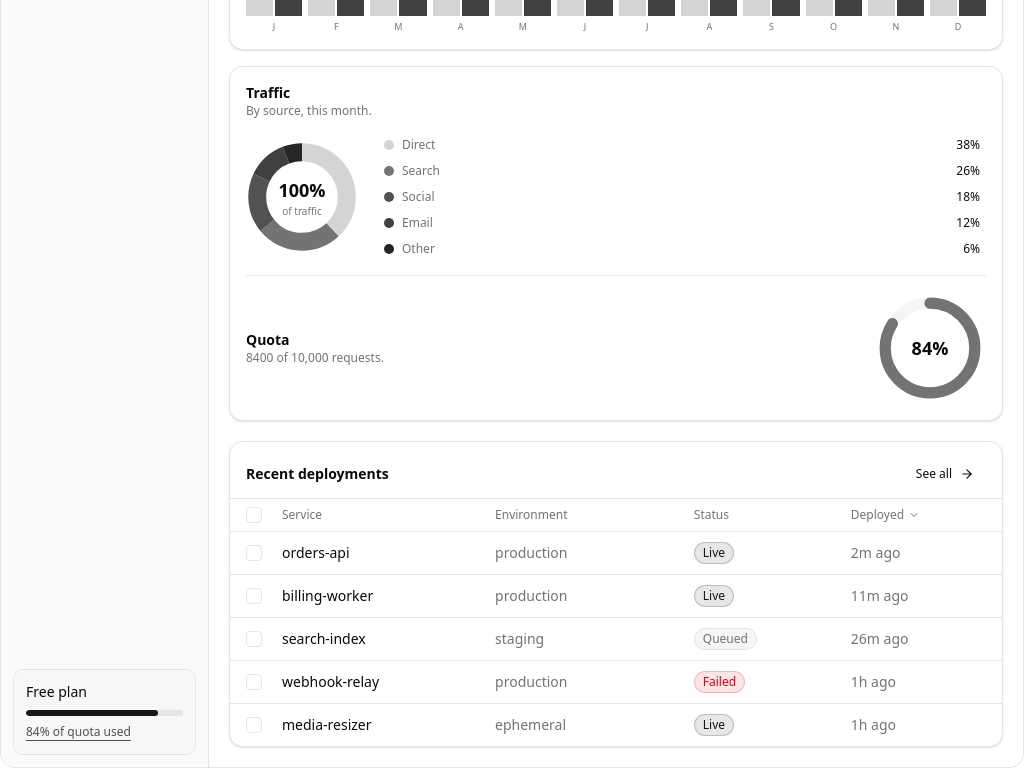
Test case: the preview's layout contract › keeps the table's bare checkboxes labelled
(page scrolled)
Click the checkbox named "Select all": click(254, 515) [246,507,262,523]
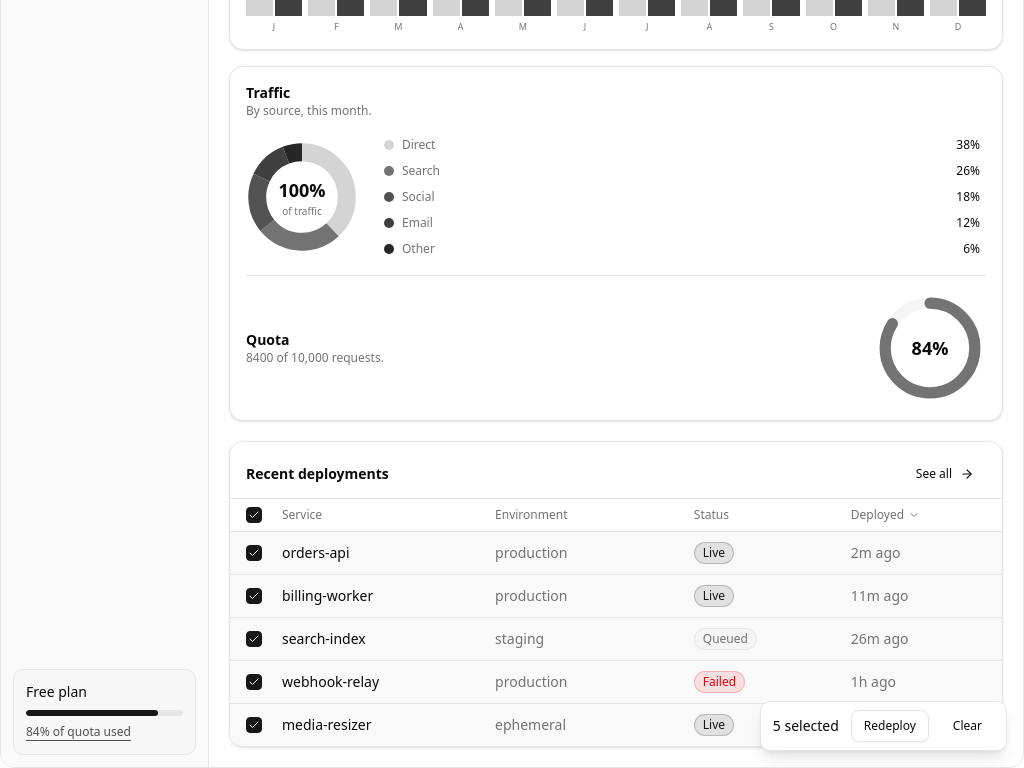
Now the text "5 selected" is shown, box [773,716,839,736]
